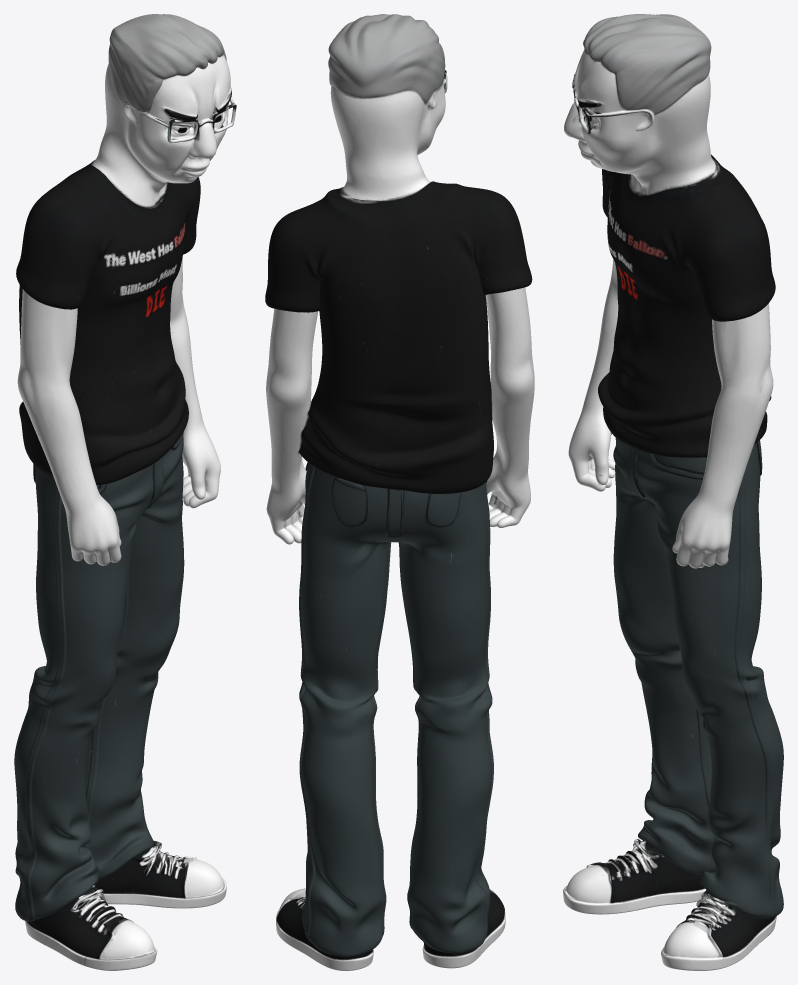
File: chudjak-original.glb
3 views of the same model, side by side, from view 1: azimuth 30°, elevation 25°; view 2: azimuth 150°, elevation 25°; view 3: azimuth 270°, elevation 25° (orthographic).
Size of the model in its own units: 0.5011 by 1.9 by 0.4163.
Materials: 1 (1 with a texture image).
